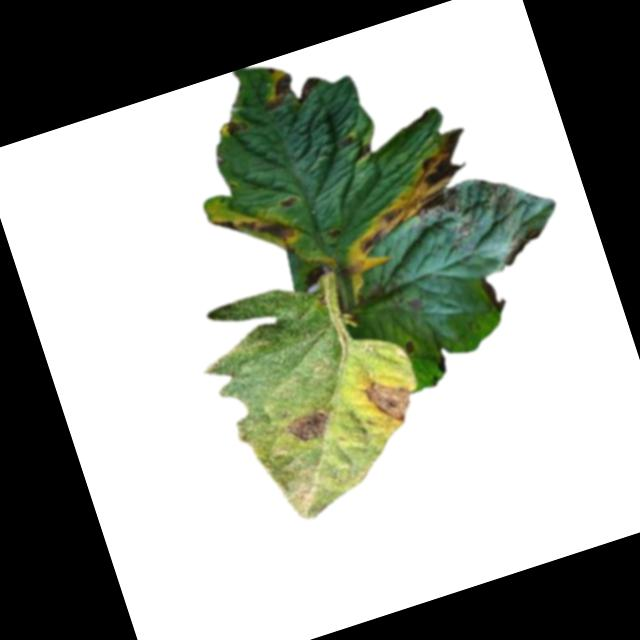Early_blight: (314, 127, 497, 278), (414, 169, 524, 253), (210, 198, 299, 263), (256, 64, 327, 119), (361, 370, 419, 431), (499, 227, 549, 268), (287, 408, 335, 446), (478, 273, 511, 315), (223, 118, 245, 140), (282, 197, 299, 211), (403, 339, 416, 355)
